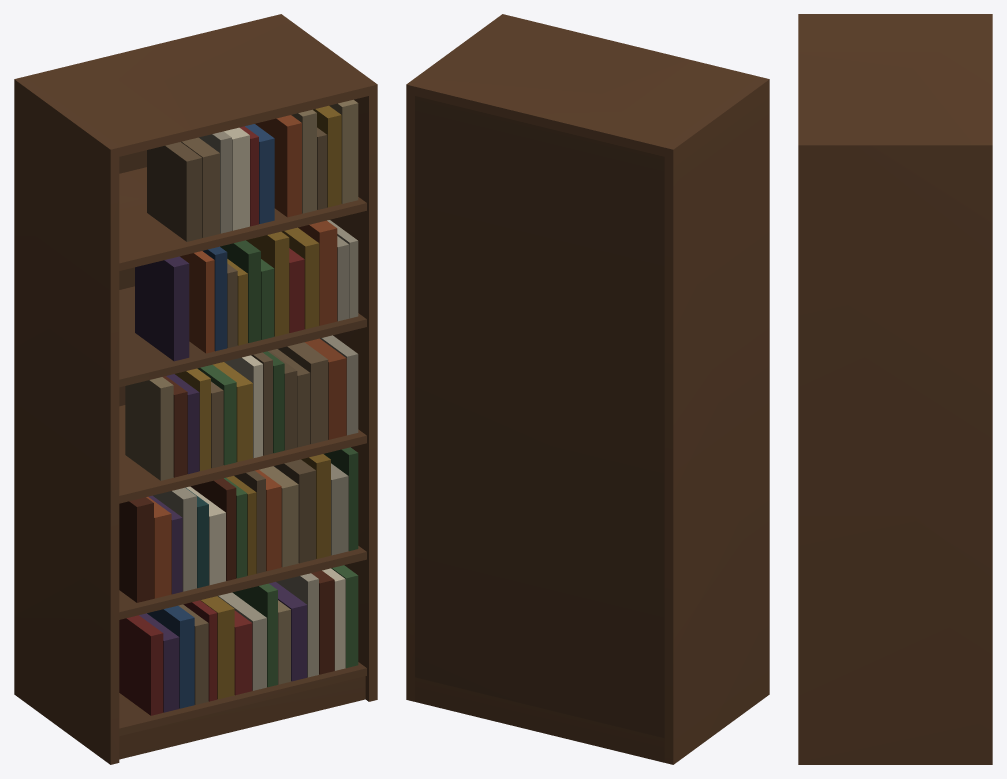
The model's file is bookcase.tall.walnut.glb.
3 views of the same model, side by side, from view 1: azimuth 30°, elevation 25°; view 2: azimuth 150°, elevation 25°; view 3: azimuth 270°, elevation 25° (orthographic).
Parts seen in each view (by area): view 1: bookcase_tall_walnut; view 2: bookcase_tall_walnut; view 3: bookcase_tall_walnut.
Boxes of the visible parts, <box> form: bookcase_tall_walnut: <box>14,14,377,764</box>; bookcase_tall_walnut: <box>406,14,769,764</box>; bookcase_tall_walnut: <box>798,14,992,764</box>.
Size of what is drawn, in the model's own units: 0.909 by 2 by 0.568.
